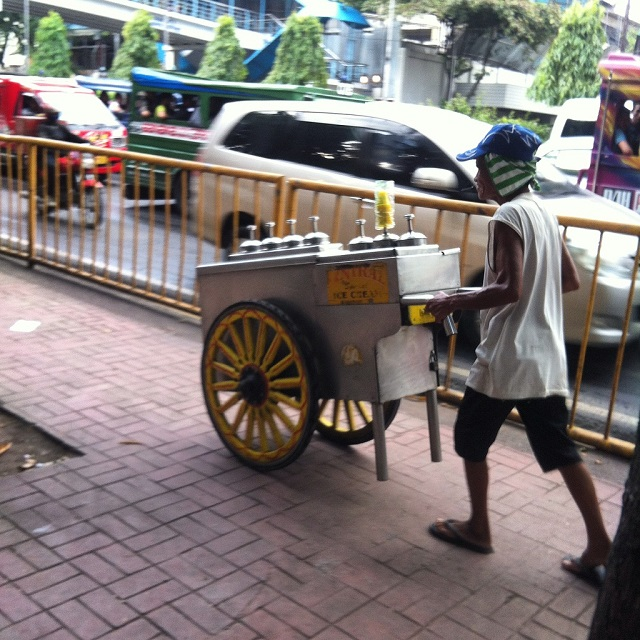cart: (198, 203, 447, 481)
person: (452, 122, 609, 572)
